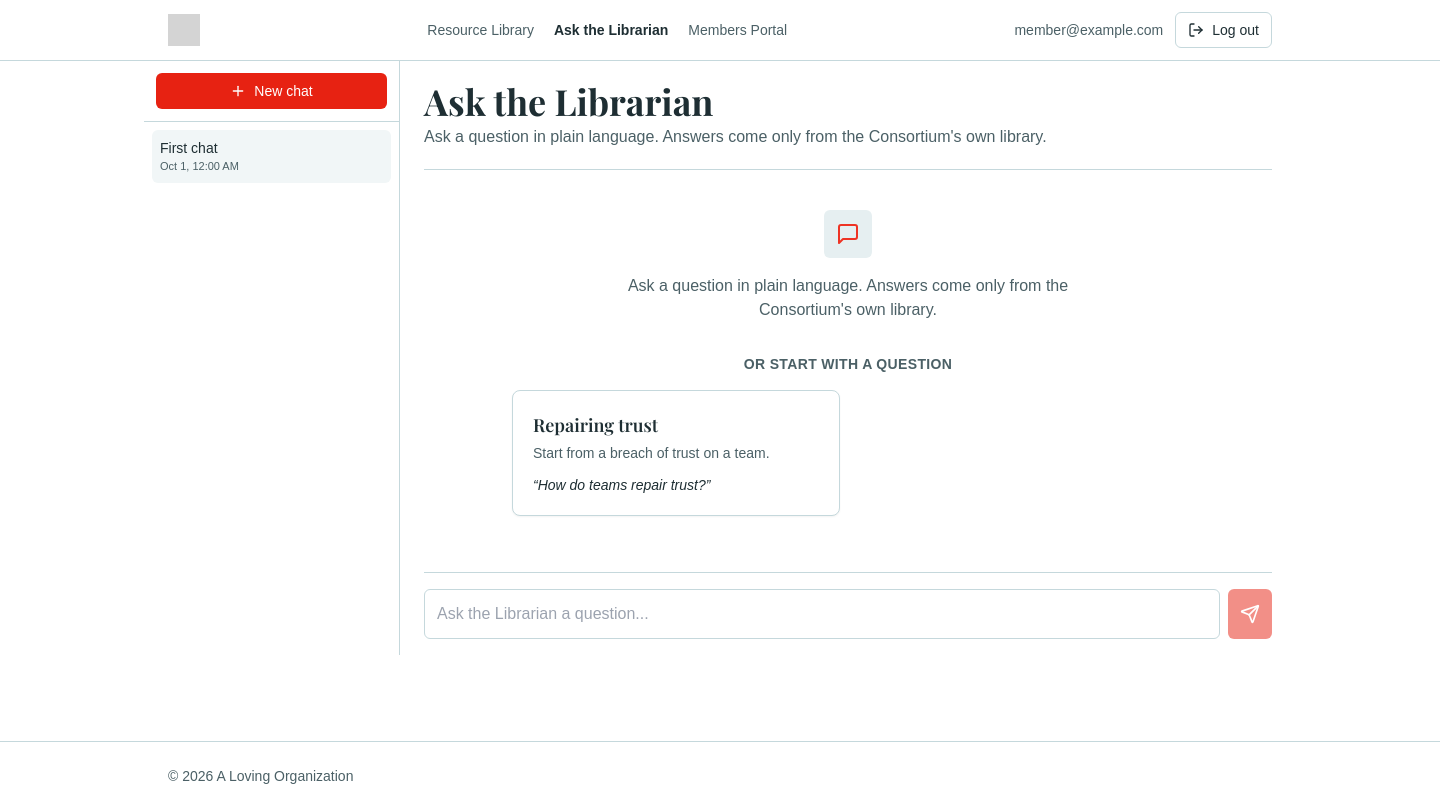
Test: Ask the Librarian chat page › offers Journeys as starter-question cards in the empty state
The image size is (1440, 810).
Click the button "Repairing trust": (676, 453) [512,390,840,516]
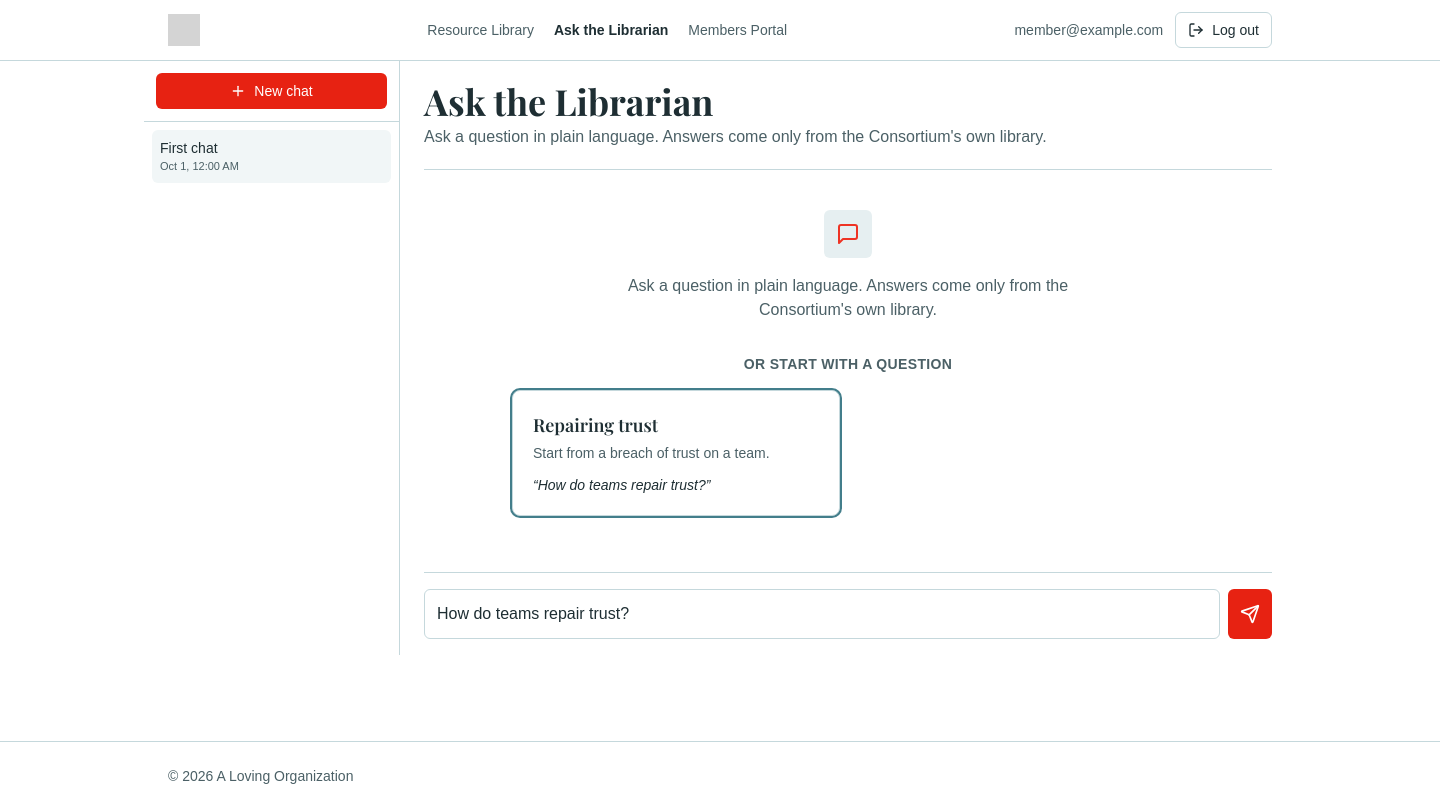
Result: the field named "Ask the Librarian a question" holds "How do teams repair trust?" at [424,589,1220,639]
